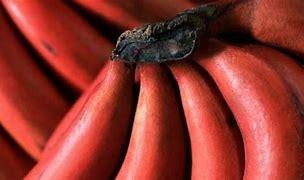banana: (45, 2, 304, 180)
